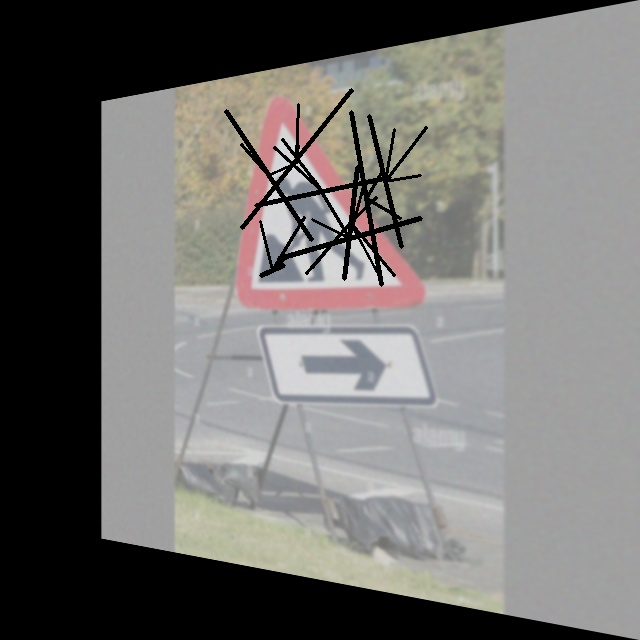Men_at_Work: (218, 71, 434, 310)
